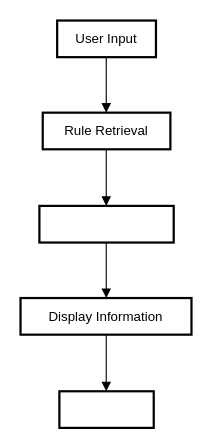
Some shapes in this 211 by 447 pixel diagram are drawn without their labels. Here are the shapes that lost their labels. From the top down, the box of each, then its label:
(38, 204, 174, 243): Differentiation
(58, 390, 154, 428): Web Page
